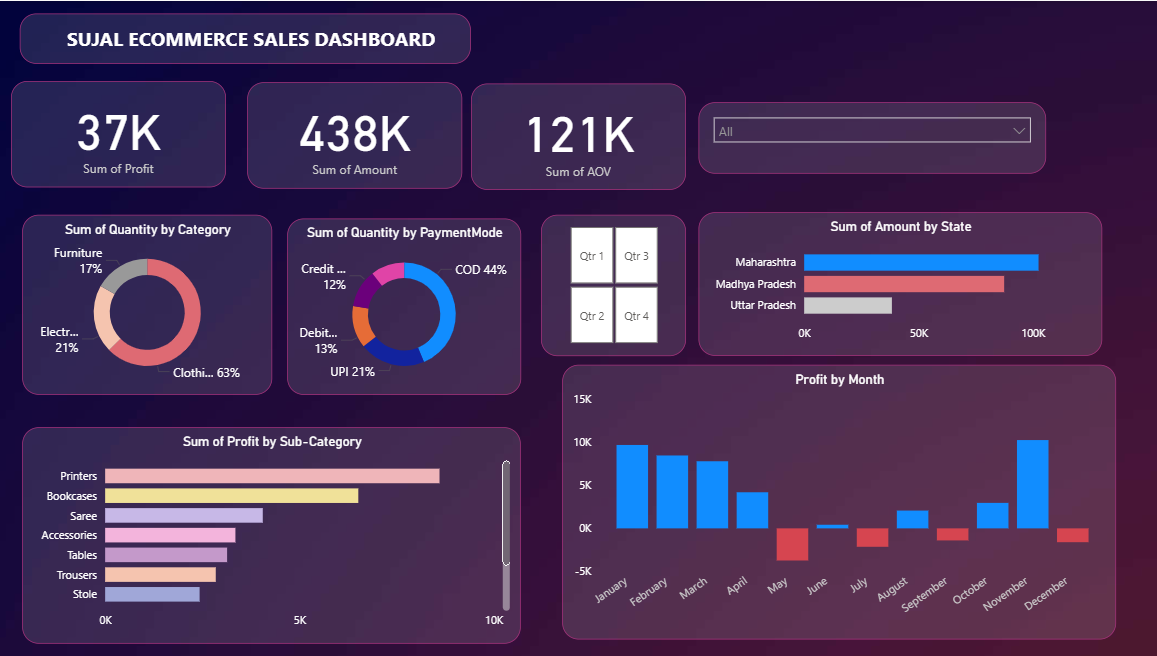

The page's visual inventory and layout, read from the dashboard file:
{"tool":"powerbi","page":{"name":"Page 1","canvas":[1280,720],"ordinal":0},"visuals":[{"type":"textbox","box":[26.1,13.7,495.4,54.9],"z":0},{"type":"columnChart","title":"Profit by Month","fields":{"Category":["Orders.Order Date.Variation.Date Hierarchy.Month"],"Y":["Sum(Details.Profit)"]},"box":[621.6,399.3,607.9,301.9],"z":1000},{"type":"barChart","fields":{"Category":["Details.Sub-Category"],"Y":["Sum(Details.Profit)"]},"box":[28.8,467.9,547.5,237.4],"z":2000},{"type":"donutChart","fields":{"Category":["Details.Category"],"Y":["Sum(Details.Quantity)"]},"box":[28.8,234.6,274.4,197.6],"z":3000},{"type":"donutChart","fields":{"Y":["Sum(Details.Quantity)"],"Category":["Details.PaymentMode"]},"box":[319.7,238.8,256.6,193.5],"z":4000},{"type":"card","fields":{"Values":["Sum(Details.Amount)"]},"box":[275.8,89.2,236,116.6],"z":5000},{"type":"card","fields":{"Values":["Sum(Details.Profit)"]},"box":[16.5,87.8,236,116.6],"z":6000},{"type":"card","fields":{"Values":["Sum(Details.AOV)"]},"box":[521.4,90.6,236,116.6],"z":7000},{"type":"barChart","fields":{"Category":["Orders.State"],"Y":["Sum(Details.Amount)"]},"box":[771.2,231.9,443.2,157.8],"z":8000},{"type":"slicer","fields":{"Values":["Orders.Order Date.Variation.Date Hierarchy.Quarter"]},"box":[598.3,234.6,159.2,155.1],"z":9000},{"type":"slicer","fields":{"Values":["Orders.State"]},"box":[771.2,108.4,381.5,79.6],"z":10000}]}

Visuals, with their boxes in screenshot pixels (x1, y1, x2, y2), scaled from the page's 1280x720 canvas onto the 1157x656 screenshot:
textbox: x1=24, y1=12, x2=471, y2=63
"Profit by Month" columnChart: x1=562, y1=364, x2=1111, y2=639
barChart - Details.Sub-Category x Sum(Details.Profit): x1=26, y1=426, x2=521, y2=643
donutChart - Details.Category x Sum(Details.Quantity): x1=26, y1=214, x2=274, y2=394
donutChart - Sum(Details.Quantity) x Details.PaymentMode: x1=289, y1=218, x2=521, y2=394
card - Sum(Details.Amount): x1=249, y1=81, x2=463, y2=188
card - Sum(Details.Profit): x1=15, y1=80, x2=228, y2=186
card - Sum(Details.AOV): x1=471, y1=83, x2=685, y2=189
barChart - Orders.State x Sum(Details.Amount): x1=697, y1=211, x2=1098, y2=355
slicer - Orders.Order Date.Variation.Date Hierarchy.Quarter: x1=541, y1=214, x2=685, y2=355
slicer - Orders.State: x1=697, y1=99, x2=1042, y2=171
